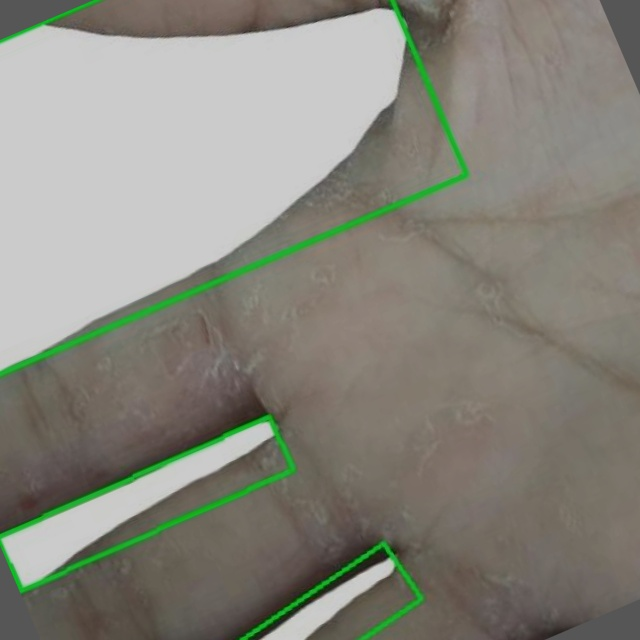Scabies: (0, 0, 466, 373), (0, 416, 293, 591)
